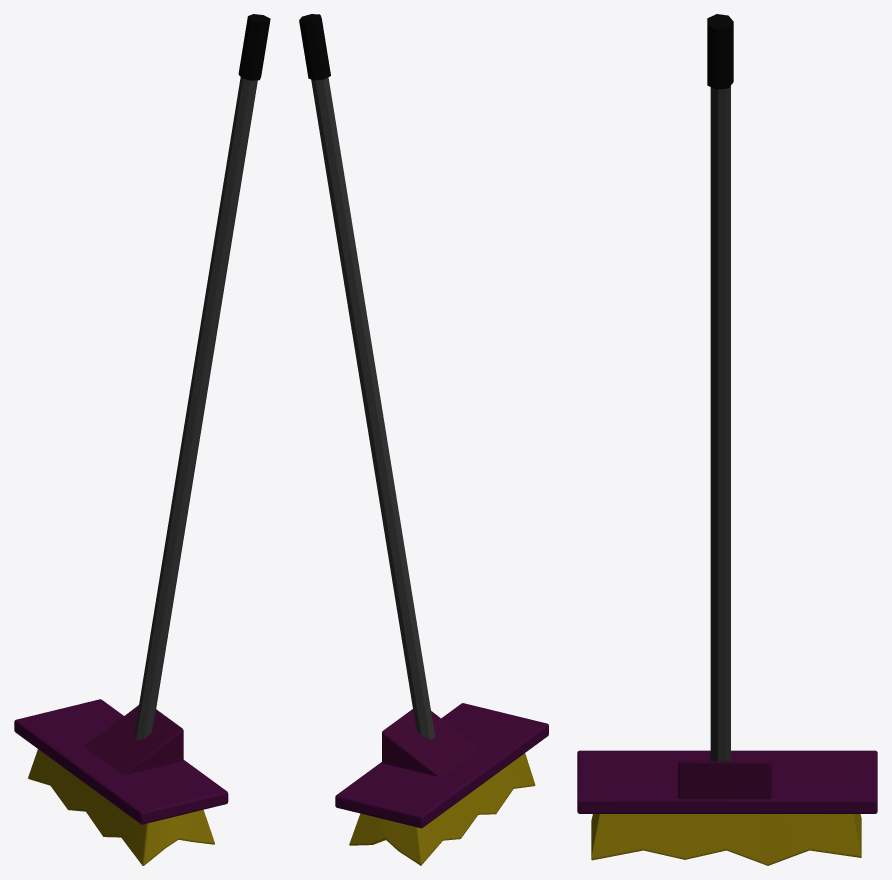
Rendered from Broom.fbx.
3 views of the same model, side by side, from view 1: azimuth 30°, elevation 25°; view 2: azimuth 150°, elevation 25°; view 3: azimuth 270°, elevation 25° (orthographic). The views are drawn at different scales.
Parts seen in each view (by area): view 1: Box008; view 2: Box008; view 3: Box008.
Boxes of the visible parts, bbox=[...] form: Box008: bbox=[14, 14, 270, 865]; Box008: bbox=[299, 14, 548, 865]; Box008: bbox=[577, 14, 877, 865].
Bounding box in the file's own units: 997 × 3900 × 1171.
